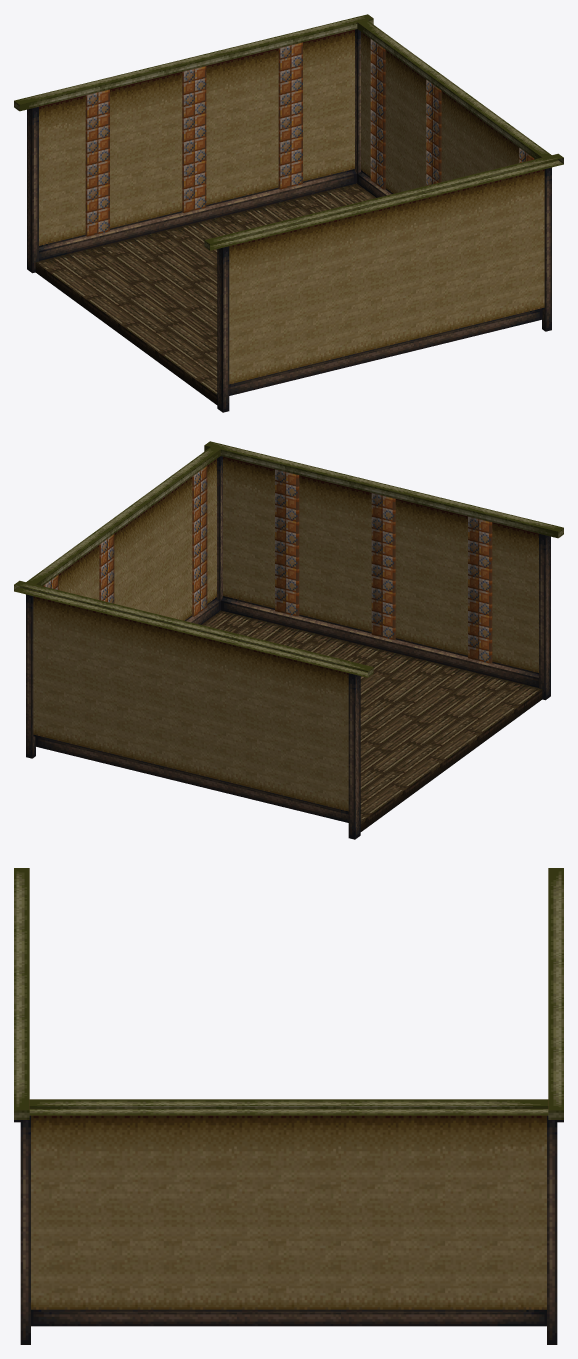
Rendered from EnvBdgMD_Sea_A_Indoor_House_G.FBX.
3 renders of one model, top to bottom at view 1: azimuth 30°, elevation 25°; view 2: azimuth 150°, elevation 25°; view 3: azimuth 270°, elevation 25°, orthographic. The views are drawn at different scales.
Visible parts, largest first — view 1: EnvBdgMD_Sea_A_Indoor_House_G; view 2: EnvBdgMD_Sea_A_Indoor_House_G; view 3: EnvBdgMD_Sea_A_Indoor_House_G.
Part boxes in pixels (x1,y1,x2,y2): EnvBdgMD_Sea_A_Indoor_House_G: [14, 14, 563, 412]; EnvBdgMD_Sea_A_Indoor_House_G: [14, 441, 563, 839]; EnvBdgMD_Sea_A_Indoor_House_G: [14, 868, 563, 1344].
Size of the model in its own units: 1100 by 510 by 1055.
1 material, 1 textured.
